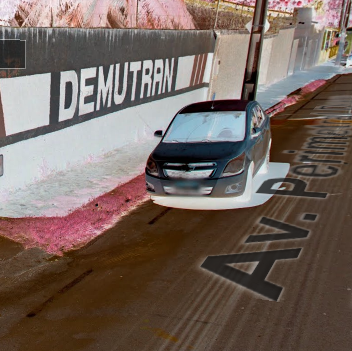car: (142, 89, 279, 215)
